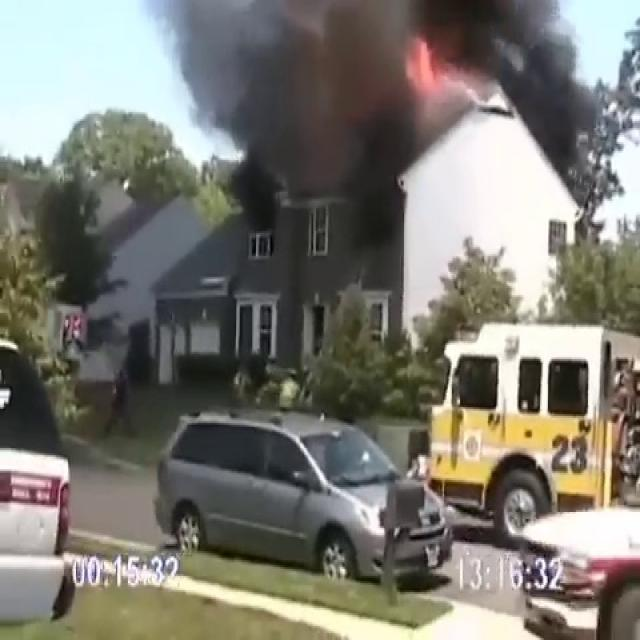Smoke: (164, 0, 606, 240)
